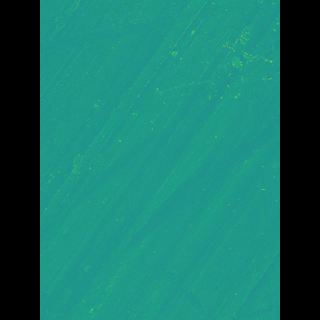Loch: (134, 104, 251, 320), (69, 0, 249, 57)
